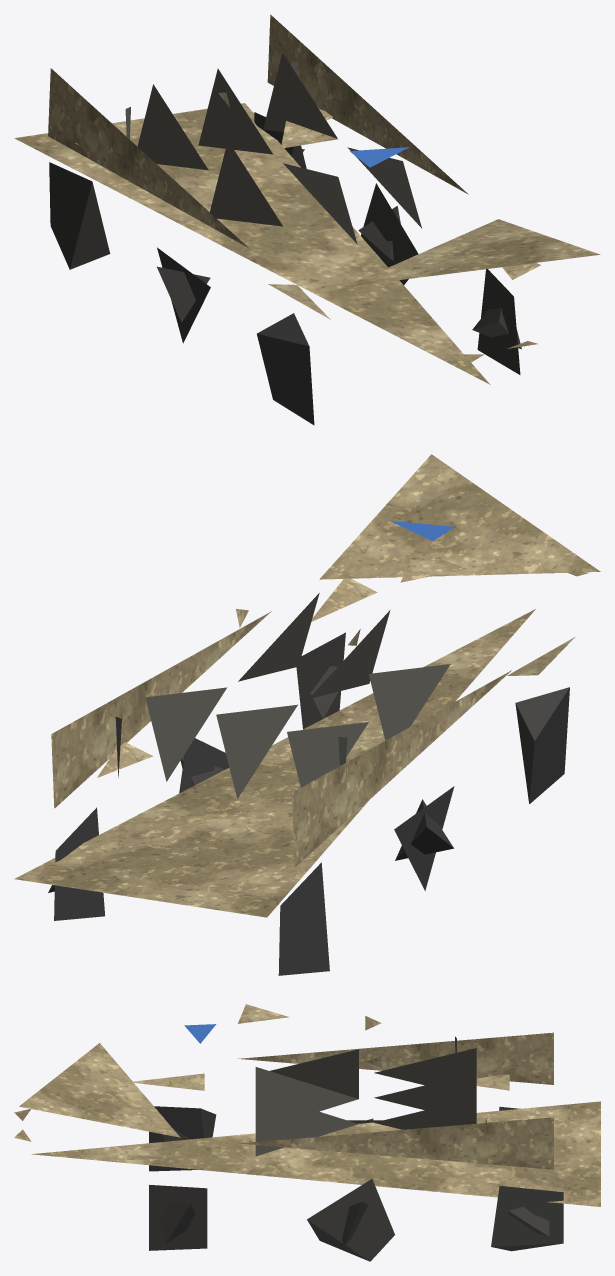
File: log_e4_us_ammotruck_LOD2.glb
3 views of the same model, one above another, from view 1: azimuth 30°, elevation 25°; view 2: azimuth 150°, elevation 25°; view 3: azimuth 270°, elevation 25° (orthographic). The views are drawn at different scales.
Parts seen in each view (by area): view 1: log_e4_us_ammotruck_LOD2_body, log_e4_us_ammotruck_LOD2_track, log_e4_us_ammotruck_LOD2_deck, log_e4_us_ammotruck_LOD2_team; view 2: log_e4_us_ammotruck_LOD2_body, log_e4_us_ammotruck_LOD2_track, log_e4_us_ammotruck_LOD2_deck; view 3: log_e4_us_ammotruck_LOD2_body, log_e4_us_ammotruck_LOD2_track, log_e4_us_ammotruck_LOD2_deck.
Boxes of the visible parts, box(x1,y1,x2,y2) form: log_e4_us_ammotruck_LOD2_body: box(14, 14, 600, 384); log_e4_us_ammotruck_LOD2_track: box(49, 112, 521, 425); log_e4_us_ammotruck_LOD2_deck: box(137, 52, 421, 244); log_e4_us_ammotruck_LOD2_team: box(350, 147, 408, 167); log_e4_us_ammotruck_LOD2_body: box(14, 454, 600, 917); log_e4_us_ammotruck_LOD2_track: box(48, 632, 569, 975); log_e4_us_ammotruck_LOD2_deck: box(145, 593, 450, 798); log_e4_us_ammotruck_LOD2_body: box(14, 1004, 600, 1206); log_e4_us_ammotruck_LOD2_track: box(149, 1106, 563, 1261); log_e4_us_ammotruck_LOD2_deck: box(255, 1048, 476, 1156).
Bounding box in the file's own units: 2.9 × 2.82 × 7.97.
5 materials, 1 textured.
